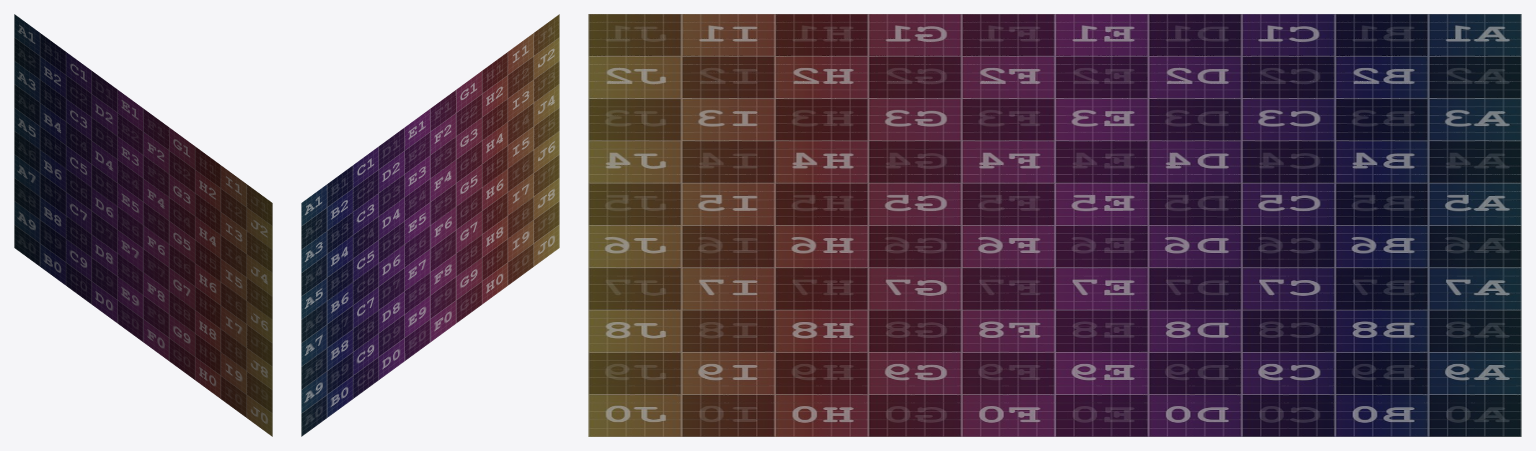
The model's file is fish_sprite.FBX.
3 renders of one model, left to right at view 1: azimuth 30°, elevation 25°; view 2: azimuth 150°, elevation 25°; view 3: azimuth 270°, elevation 25°, orthographic. The views are drawn at different scales.
Visible parts, largest first — view 1: Fish_Sprite_Front, Fish_Sprite_Back; view 2: Fish_Sprite_Front, Fish_Sprite_Back; view 3: Fish_Sprite_Front, Fish_Sprite_Back.
Part boxes in pixels (x1,y1,x2,y2): Fish_Sprite_Front: [14, 14, 272, 436]; Fish_Sprite_Back: [14, 16, 270, 424]; Fish_Sprite_Front: [301, 14, 559, 436]; Fish_Sprite_Back: [301, 16, 558, 422]; Fish_Sprite_Front: [588, 14, 1521, 436]; Fish_Sprite_Back: [591, 14, 1521, 434].
Bounding box in the file's own units: 8.6e-07 × 19.69 × 39.37.
1 material, 1 textured.
